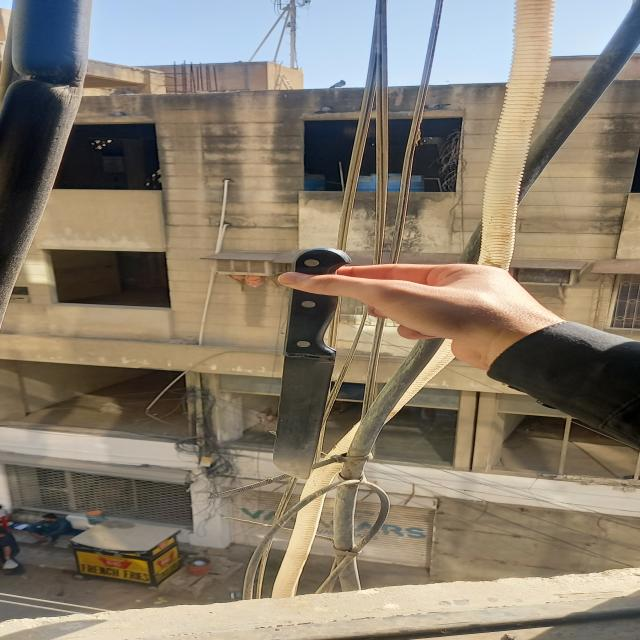Knife: (240, 246, 363, 476)
